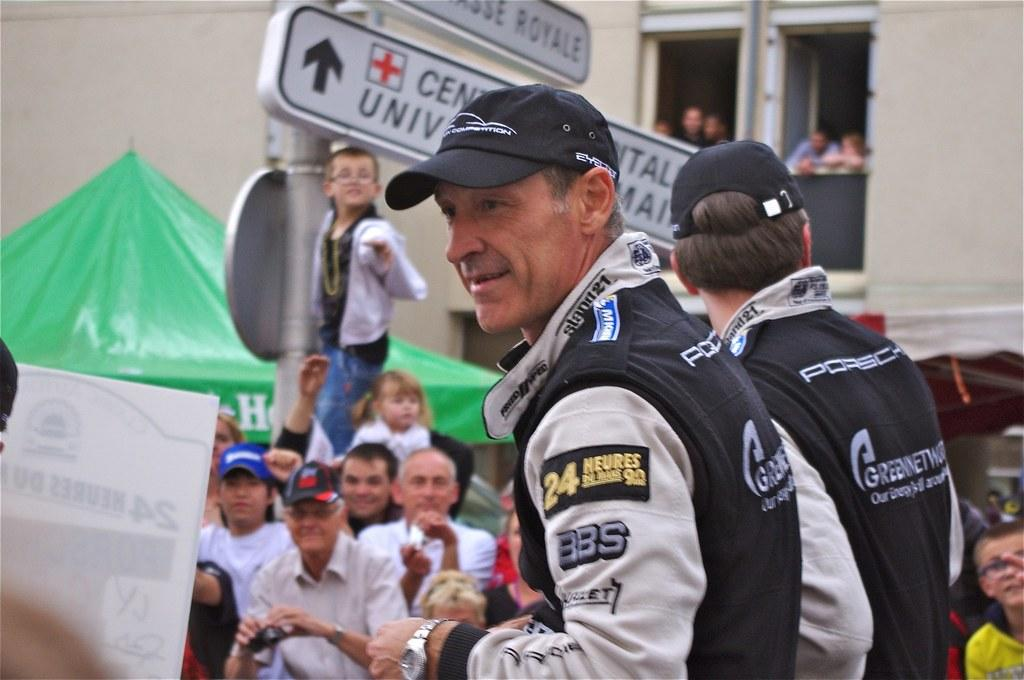Hat: (388, 83, 622, 212), (672, 138, 804, 238), (280, 455, 338, 508), (216, 444, 270, 486)
